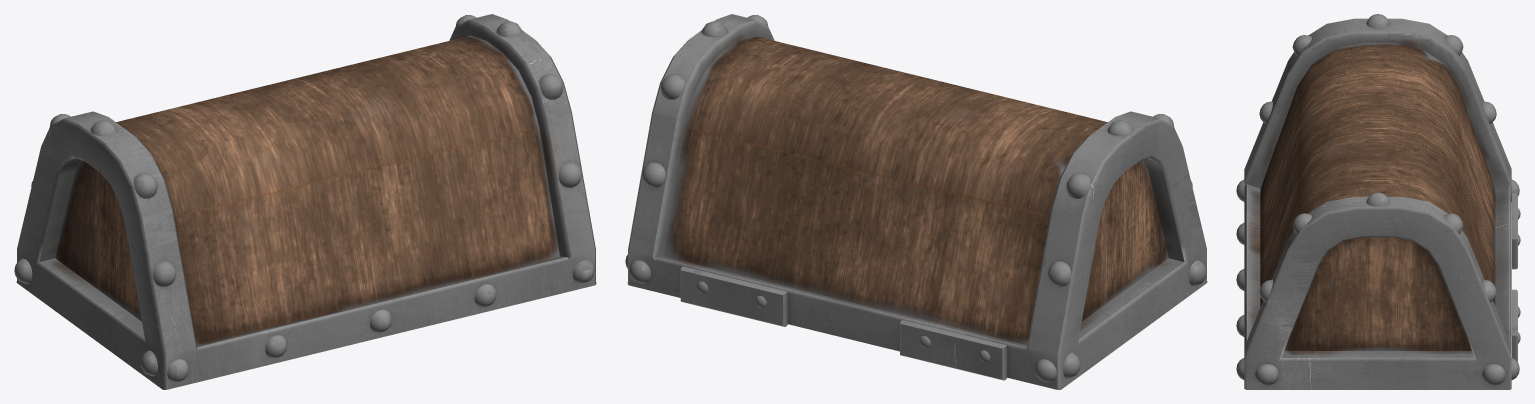
The model's file is magicBoxTop.dae.
3 views of the same model, side by side, from view 1: azimuth 30°, elevation 25°; view 2: azimuth 150°, elevation 25°; view 3: azimuth 270°, elevation 25° (orthographic). The views are drawn at different scales.
Parts seen in each view (by area): view 1: chest1_chestTop; view 2: chest1_chestTop; view 3: chest1_chestTop.
Part boxes in pixels (bbox=[...]): chest1_chestTop: bbox=[14, 14, 596, 389]; chest1_chestTop: bbox=[625, 14, 1207, 389]; chest1_chestTop: bbox=[1236, 14, 1520, 389].
Bounding box in the file's own units: 1.31 × 0.5871 × 0.7914.
1 material, 1 textured.
